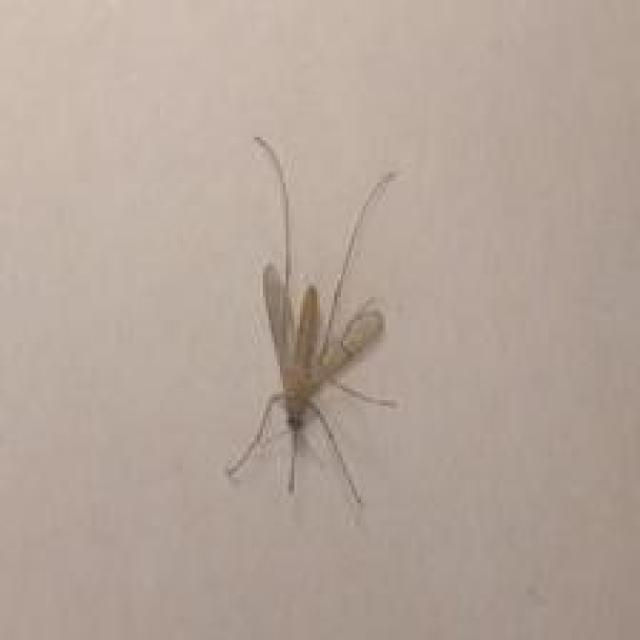Culex: (225, 134, 402, 512)
